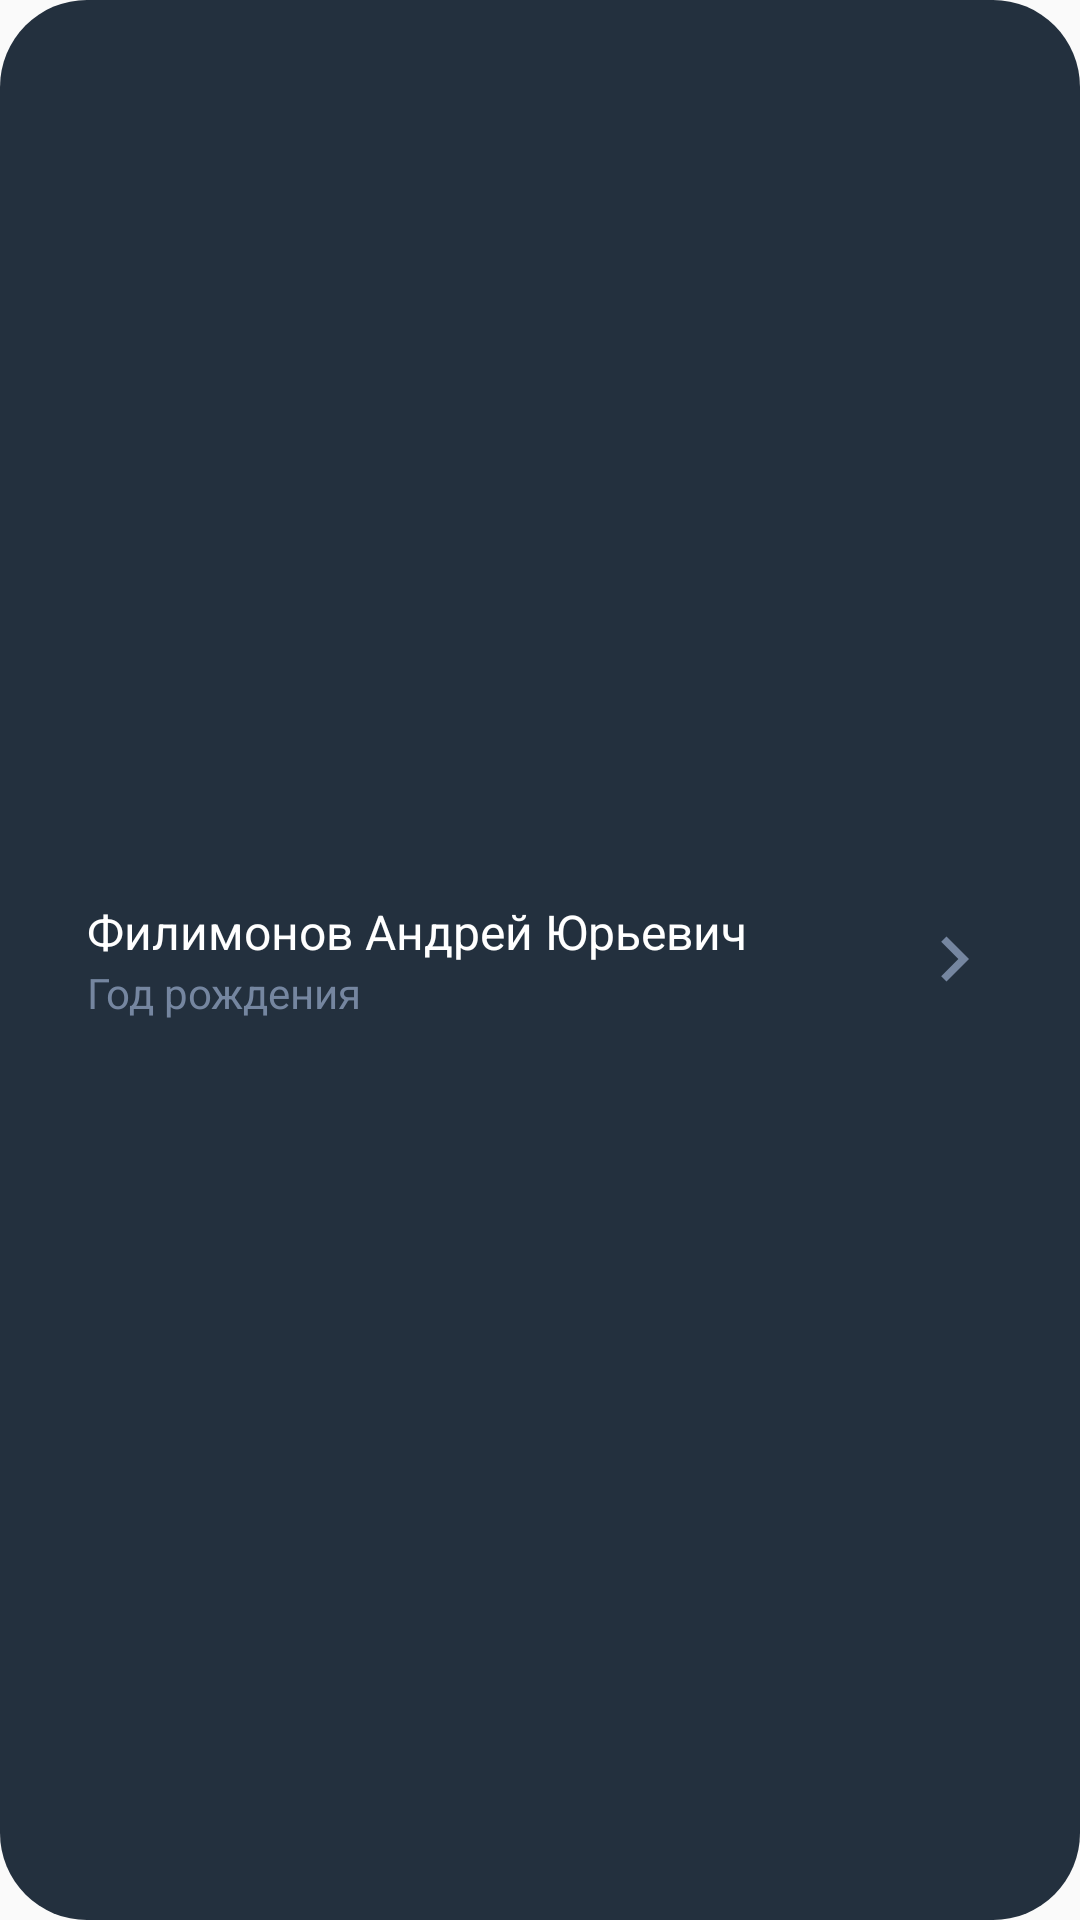

Named icons in this screenshot (1080 x 1920) and their centers, (x=x, y=y):
keyboard arrow right: (x=955, y=959)
